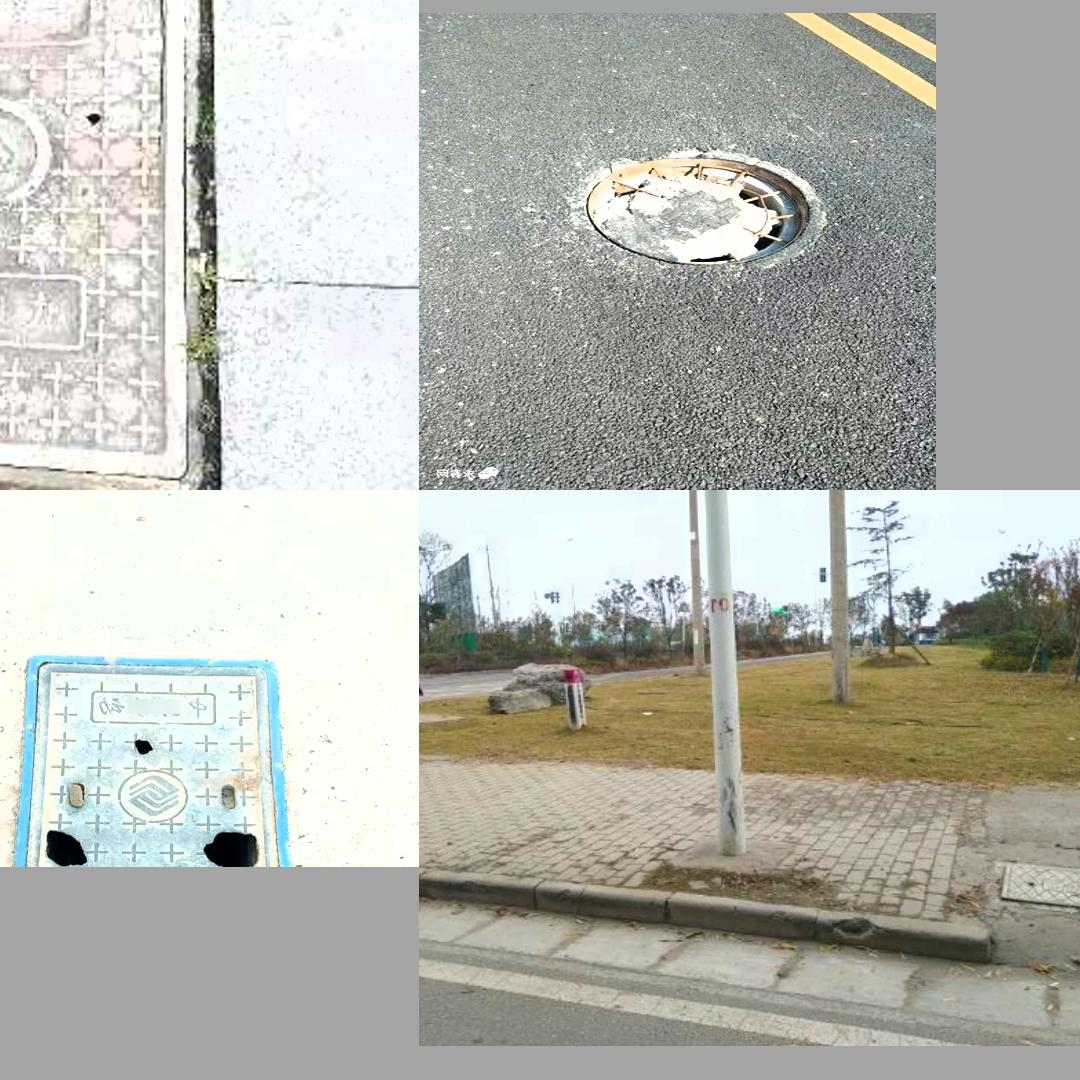broke: (0, 0, 202, 490), (10, 655, 290, 867), (570, 138, 832, 282), (995, 867, 1080, 910)
